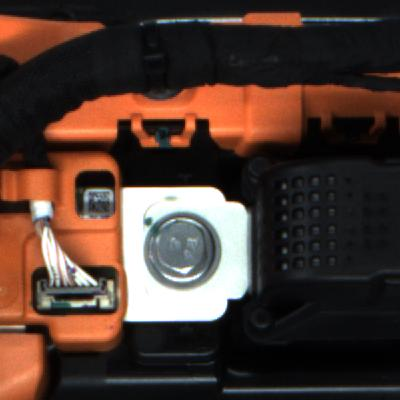nut_b: (136, 206, 249, 294)
